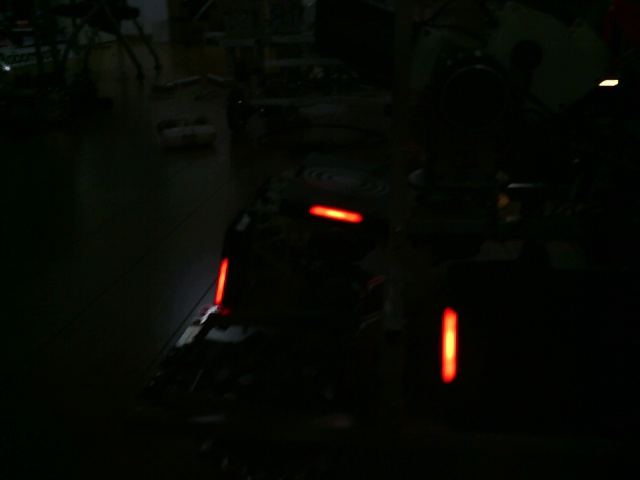lamp: (436, 307, 460, 385), (213, 255, 231, 310)
